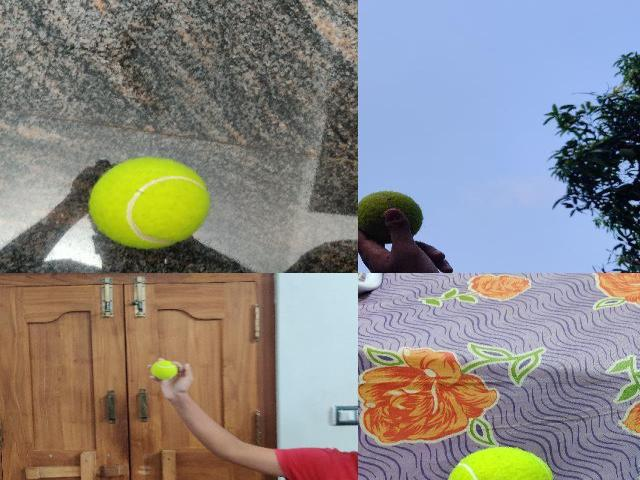tennis-ball: (88, 156, 210, 250), (358, 190, 424, 246), (446, 446, 554, 480), (150, 360, 178, 380)
